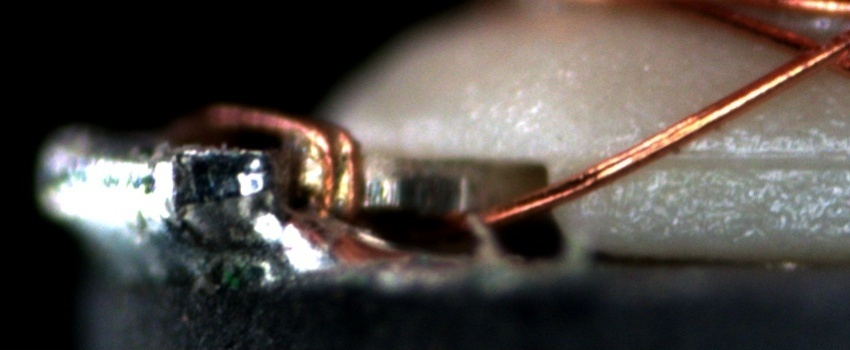CL: (777, 26, 846, 77)
DL: (660, 124, 849, 183)
TE: (188, 101, 374, 234)
